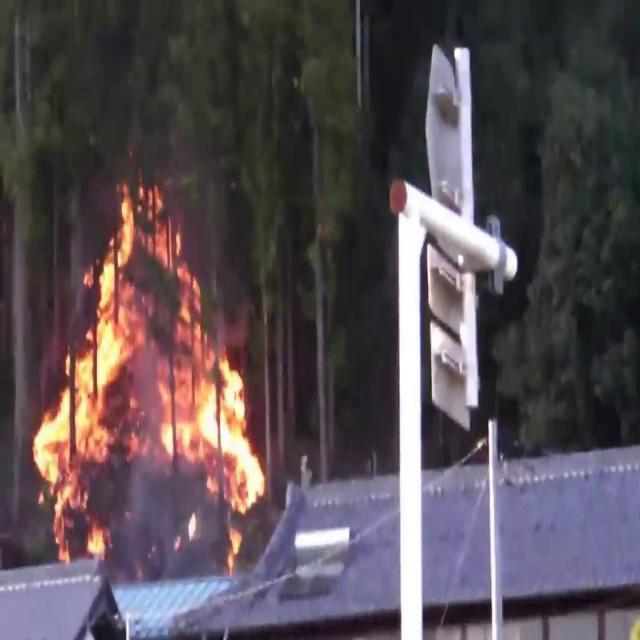Fire: (30, 172, 266, 548)
